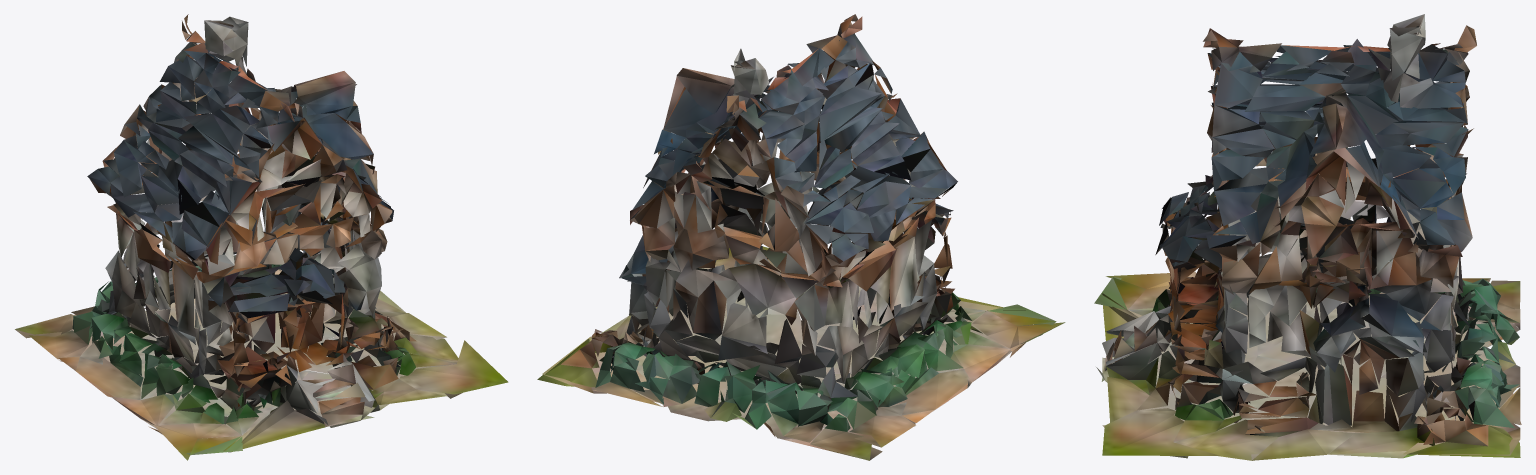
Rendered from house_gable_porch_b_lod1.glb.
3 views of the same model, side by side, from view 1: azimuth 30°, elevation 25°; view 2: azimuth 150°, elevation 25°; view 3: azimuth 270°, elevation 25° (orthographic). The views are drawn at different scales.
Parts seen in each view (by area): view 1: house_gable_porch_b_lod1; view 2: house_gable_porch_b_lod1; view 3: house_gable_porch_b_lod1.
Part boxes in pixels (x1=…): house_gable_porch_b_lod1: x1=15, y1=14, x2=508, y2=460; house_gable_porch_b_lod1: x1=537, y1=14, x2=1065, y2=460; house_gable_porch_b_lod1: x1=1094, y1=14, x2=1521, y2=460.
Bounding box in the file's own units: 8.3 × 7.46 × 8.12.
Materials: 1 (1 with a texture image).
